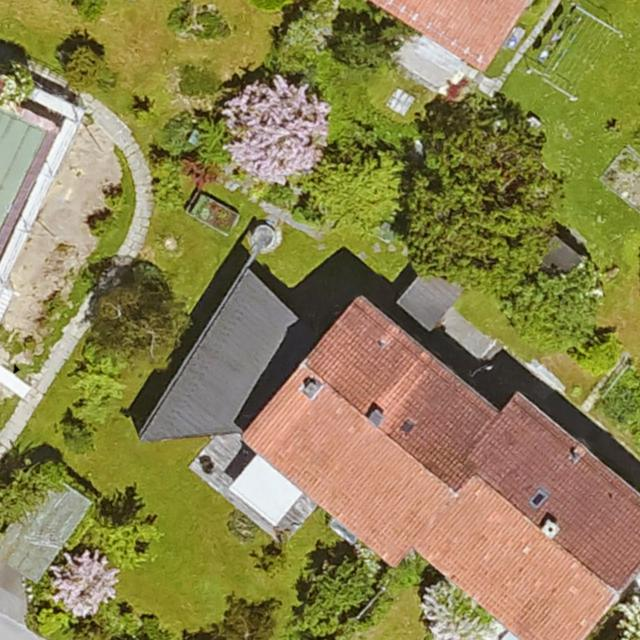tree: (418, 98, 558, 282), (222, 75, 330, 179), (85, 266, 189, 355), (305, 158, 410, 232), (422, 575, 497, 640), (51, 550, 118, 616), (331, 8, 396, 70), (0, 464, 63, 524), (309, 566, 378, 620), (93, 515, 154, 568), (70, 364, 126, 407), (223, 603, 279, 640), (63, 46, 105, 87)
